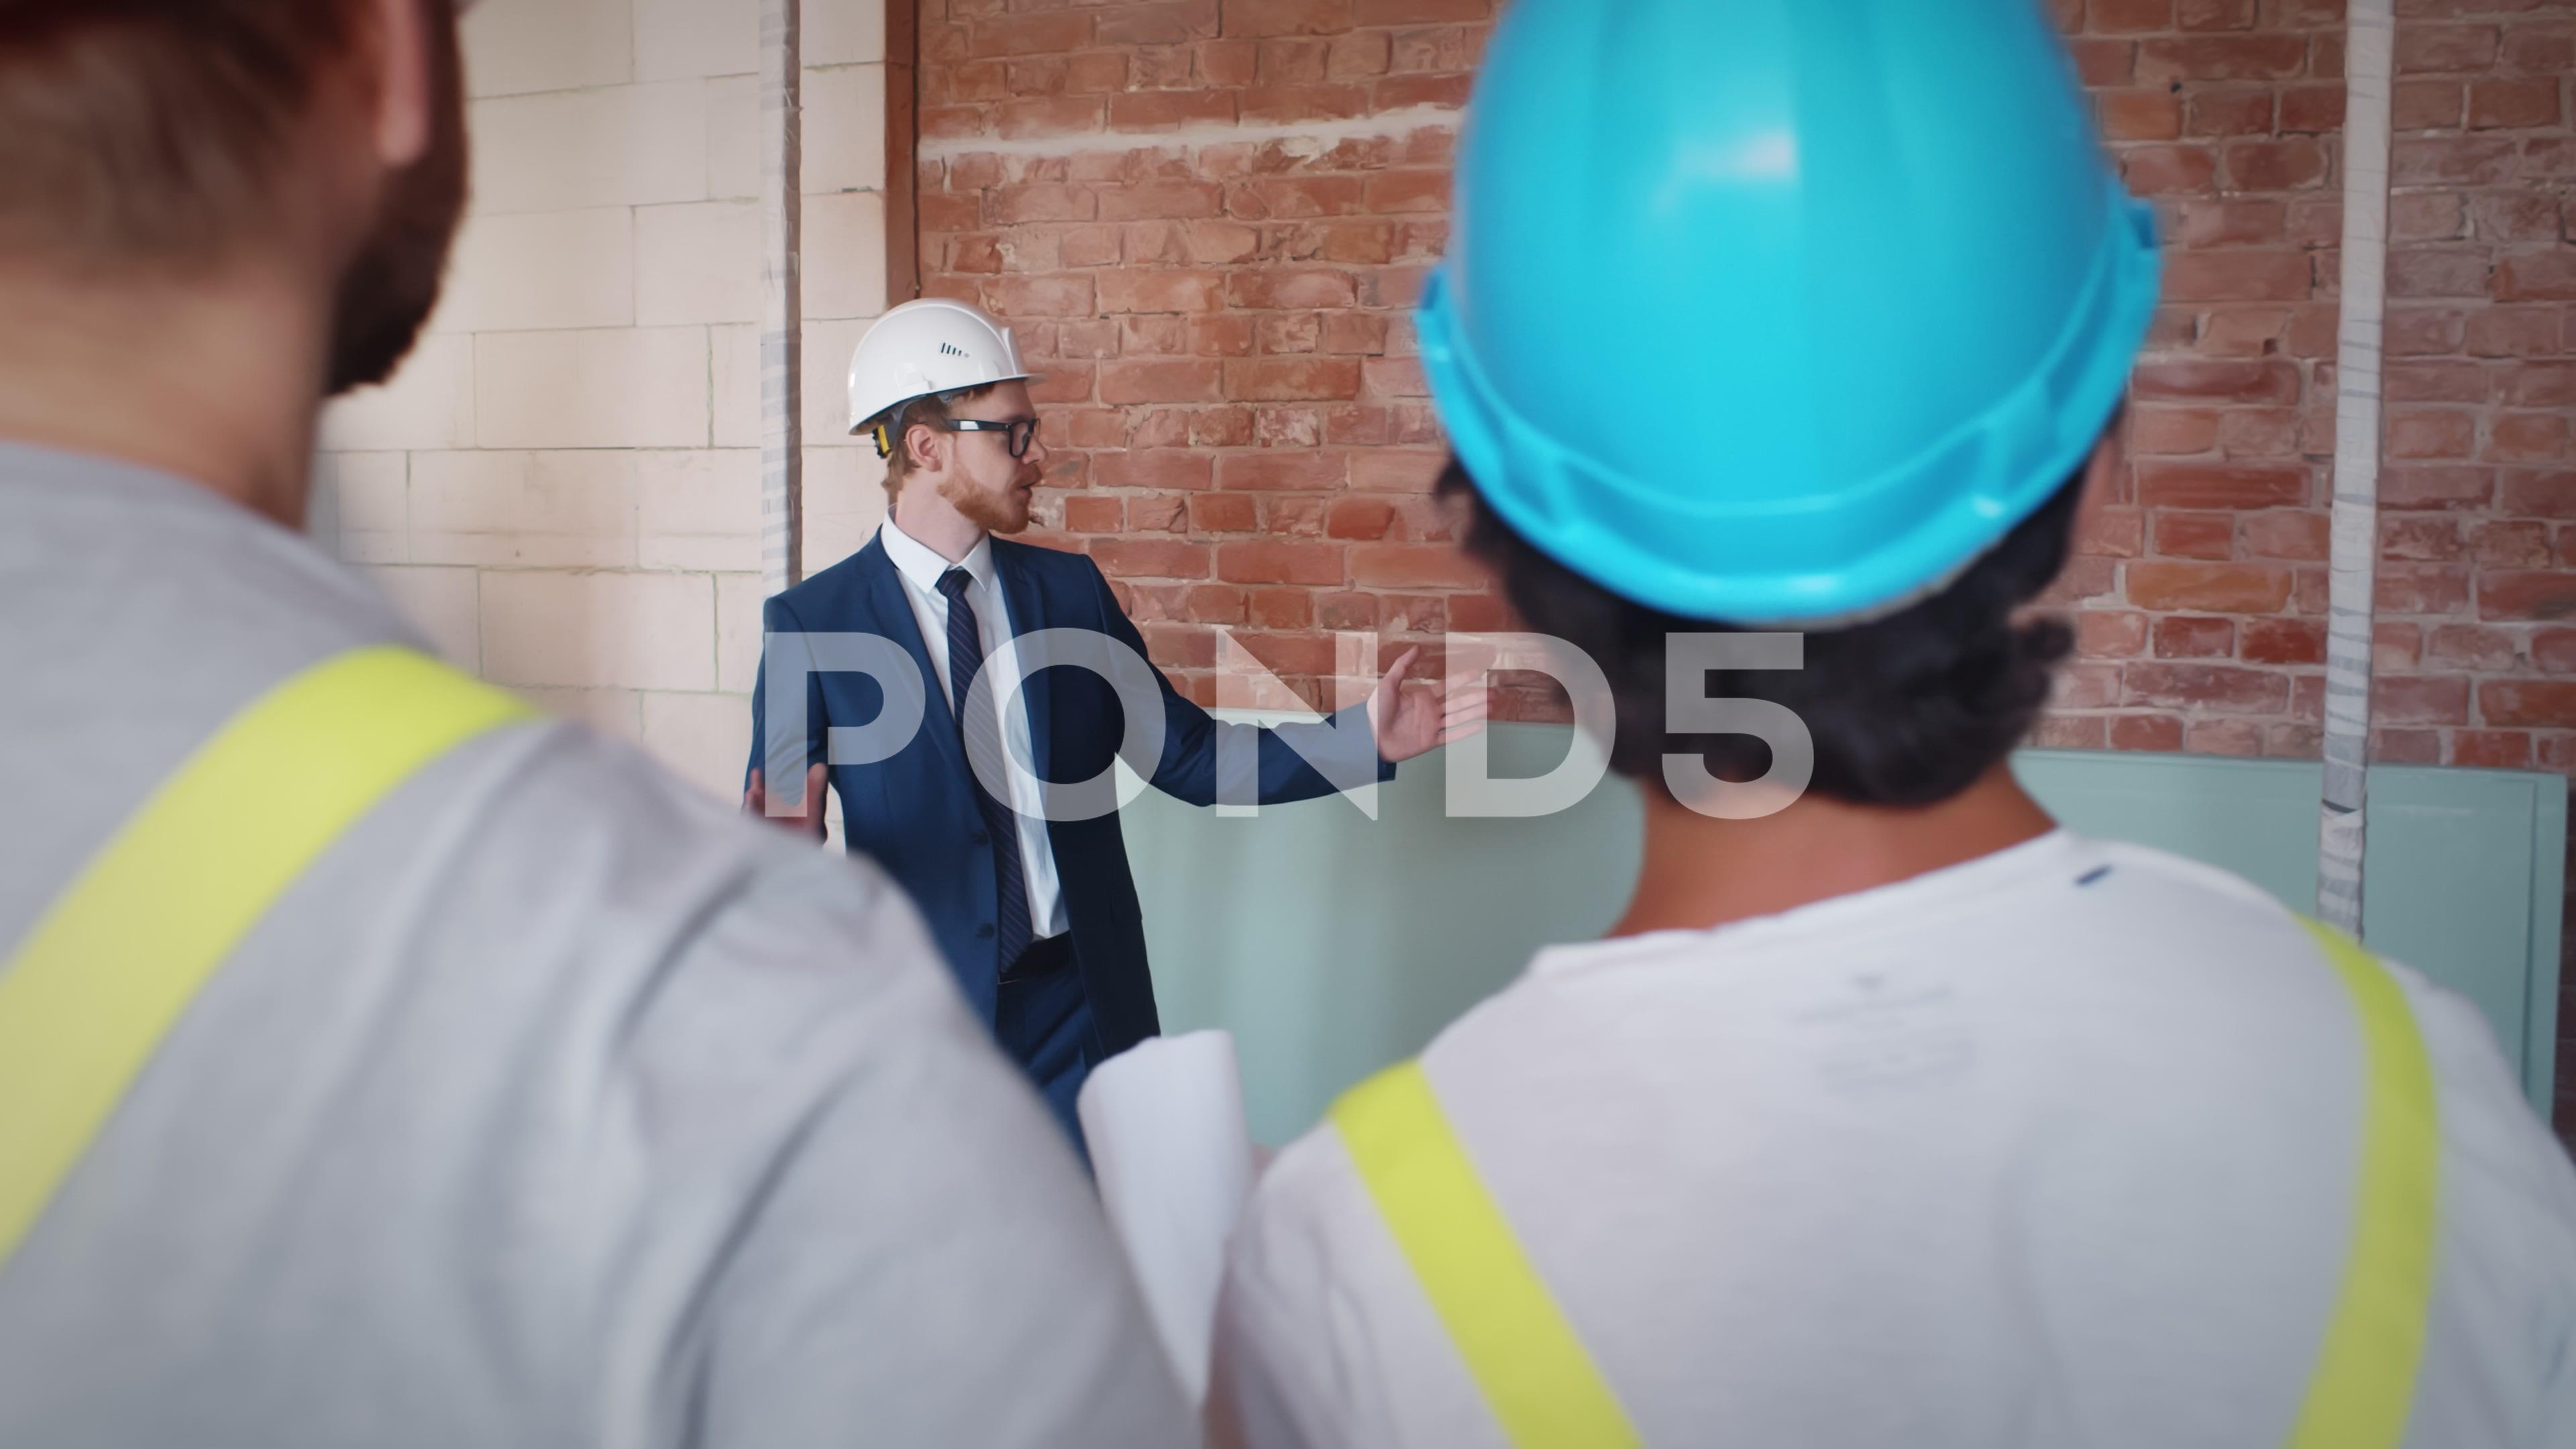hat: (1336, 1, 2245, 900), (782, 212, 1128, 571)
no vest: (1, 383, 1148, 1449), (1332, 675, 2573, 1449), (718, 457, 1349, 1181)
